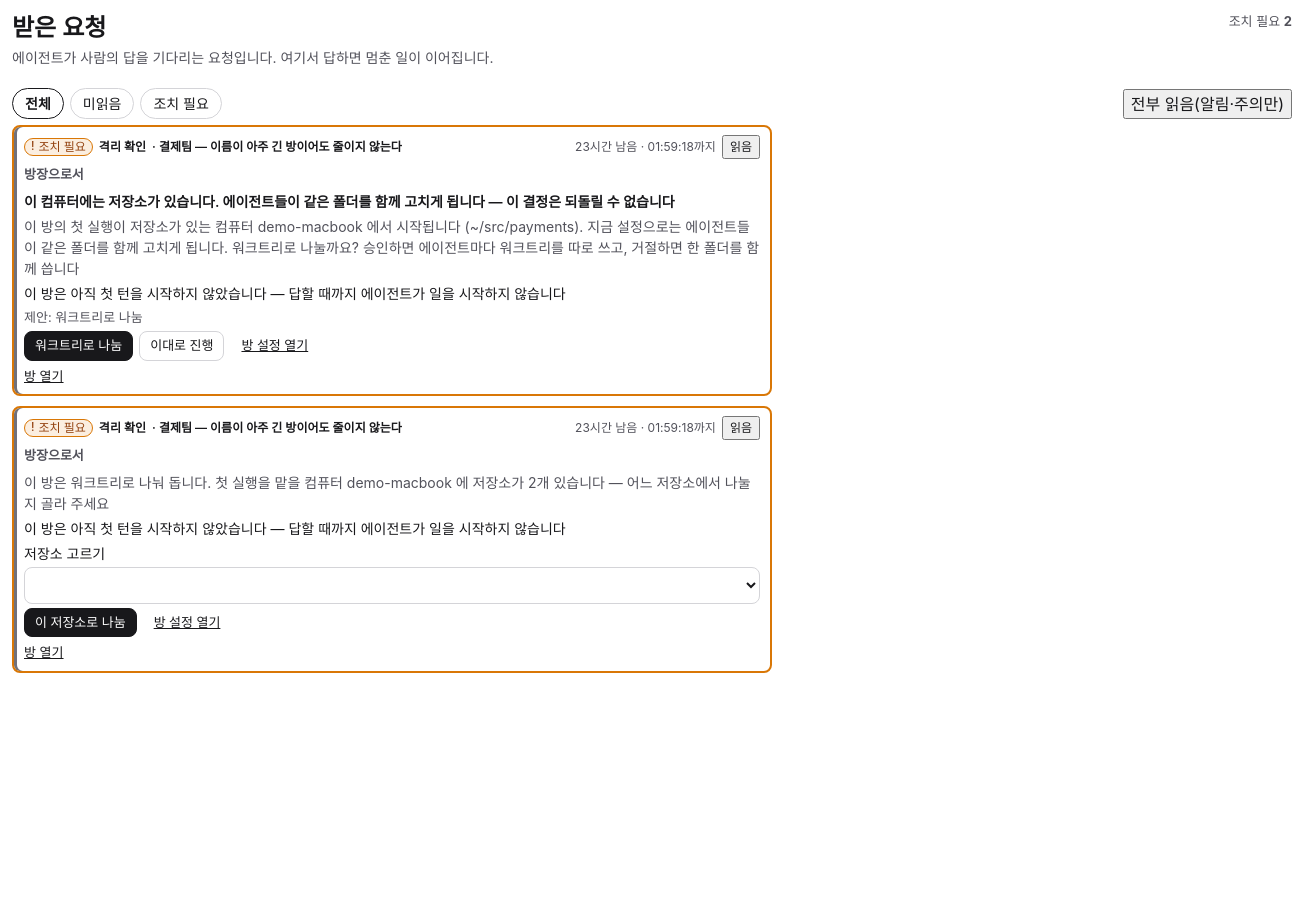
Test: S8 v0.19 — 방 층 항목 › isolation_confirm(approval) — 버튼이 결과의 이름이다 · 「워크트리로 나눔」은 격리를 worktree 로
Expected: the 1st text with test id "inbox-isolation-held" reads "이 방은 아직 첫 턴을 시작하지 않았습니다 — 답할 때까지 에이전트가 일을 시작하지 않습니다", 24,285 -> 566,302
Expected: the button with test id "inbox-isolation-keep" reads "이대로 진행", 139,331 -> 224,361
Click the button with test id "inbox-isolation-split": (79, 346) 24,331 -> 133,361
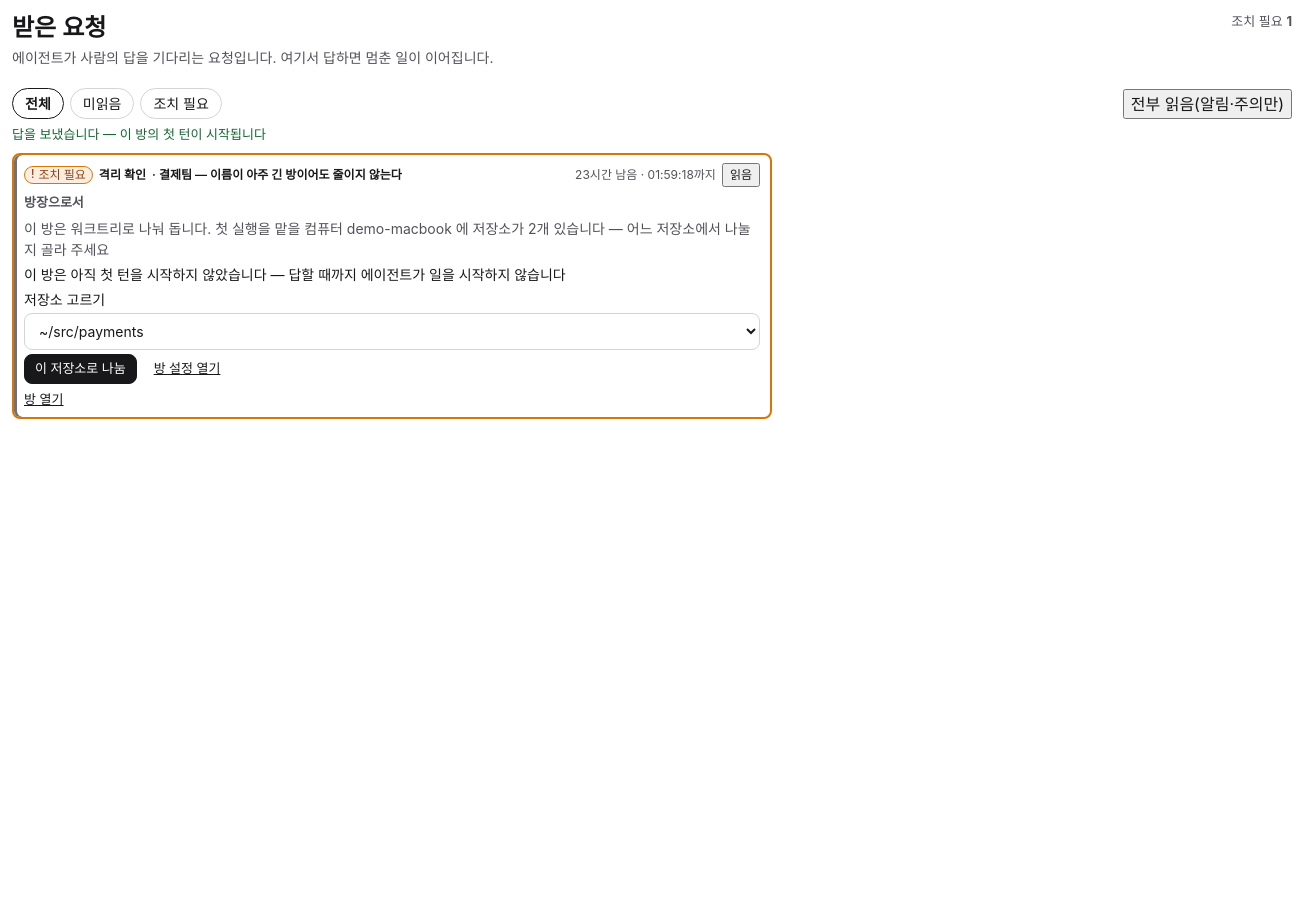
Expected: the message with test id "inbox-toast" reads "답을 보냈습니다 — 이 방의 첫 턴이 시작됩니다", 12,126 -> 266,142
